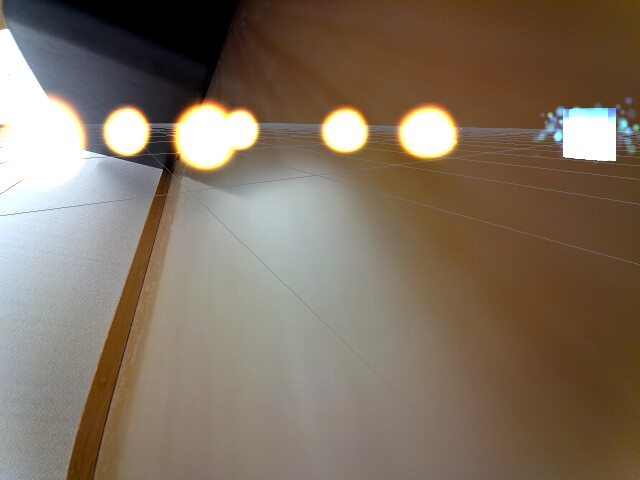firebig: (0, 69, 87, 208)
